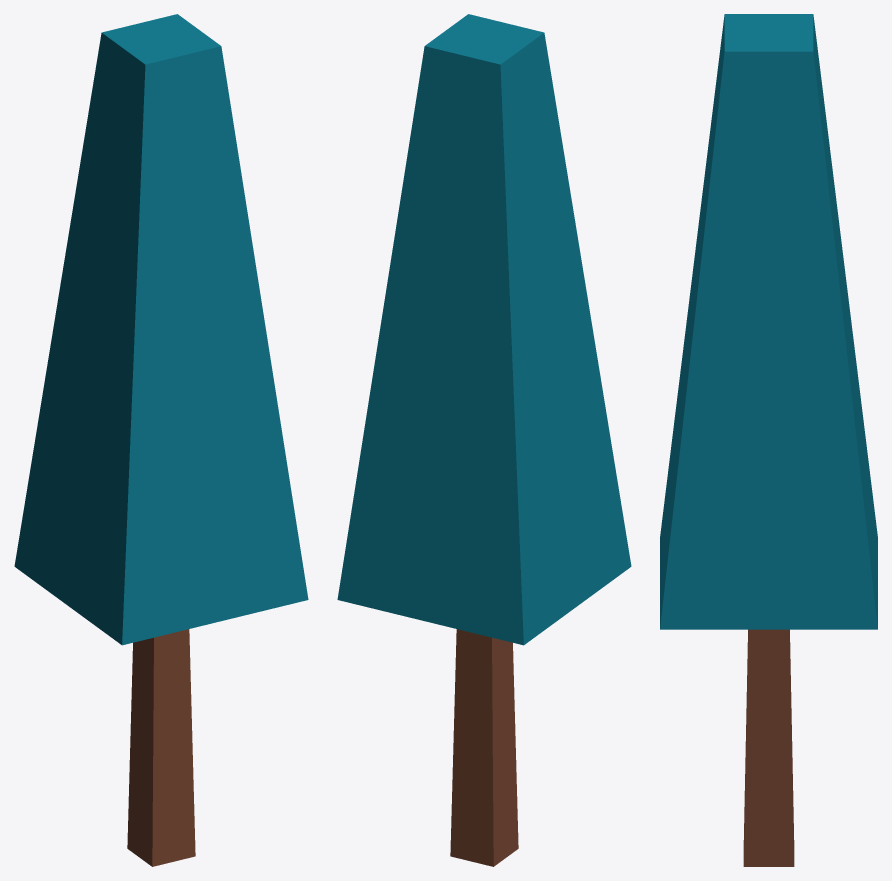
File: Tree_26_summer_blue_vc.fbx
3 views of the same model, side by side, from view 1: azimuth 30°, elevation 25°; view 2: azimuth 150°, elevation 25°; view 3: azimuth 270°, elevation 25° (orthographic).
Parts seen in each view (by area): view 1: Tree_26_summer_blue_vc; view 2: Tree_26_summer_blue_vc; view 3: Tree_26_summer_blue_vc.
Part boxes in pixels (box(x1,y1,x2,y2)): Tree_26_summer_blue_vc: box(14, 14, 308, 866); Tree_26_summer_blue_vc: box(337, 14, 631, 866); Tree_26_summer_blue_vc: box(660, 14, 877, 866).
Size of the model in its own units: 63.19 by 263 by 63.19.
